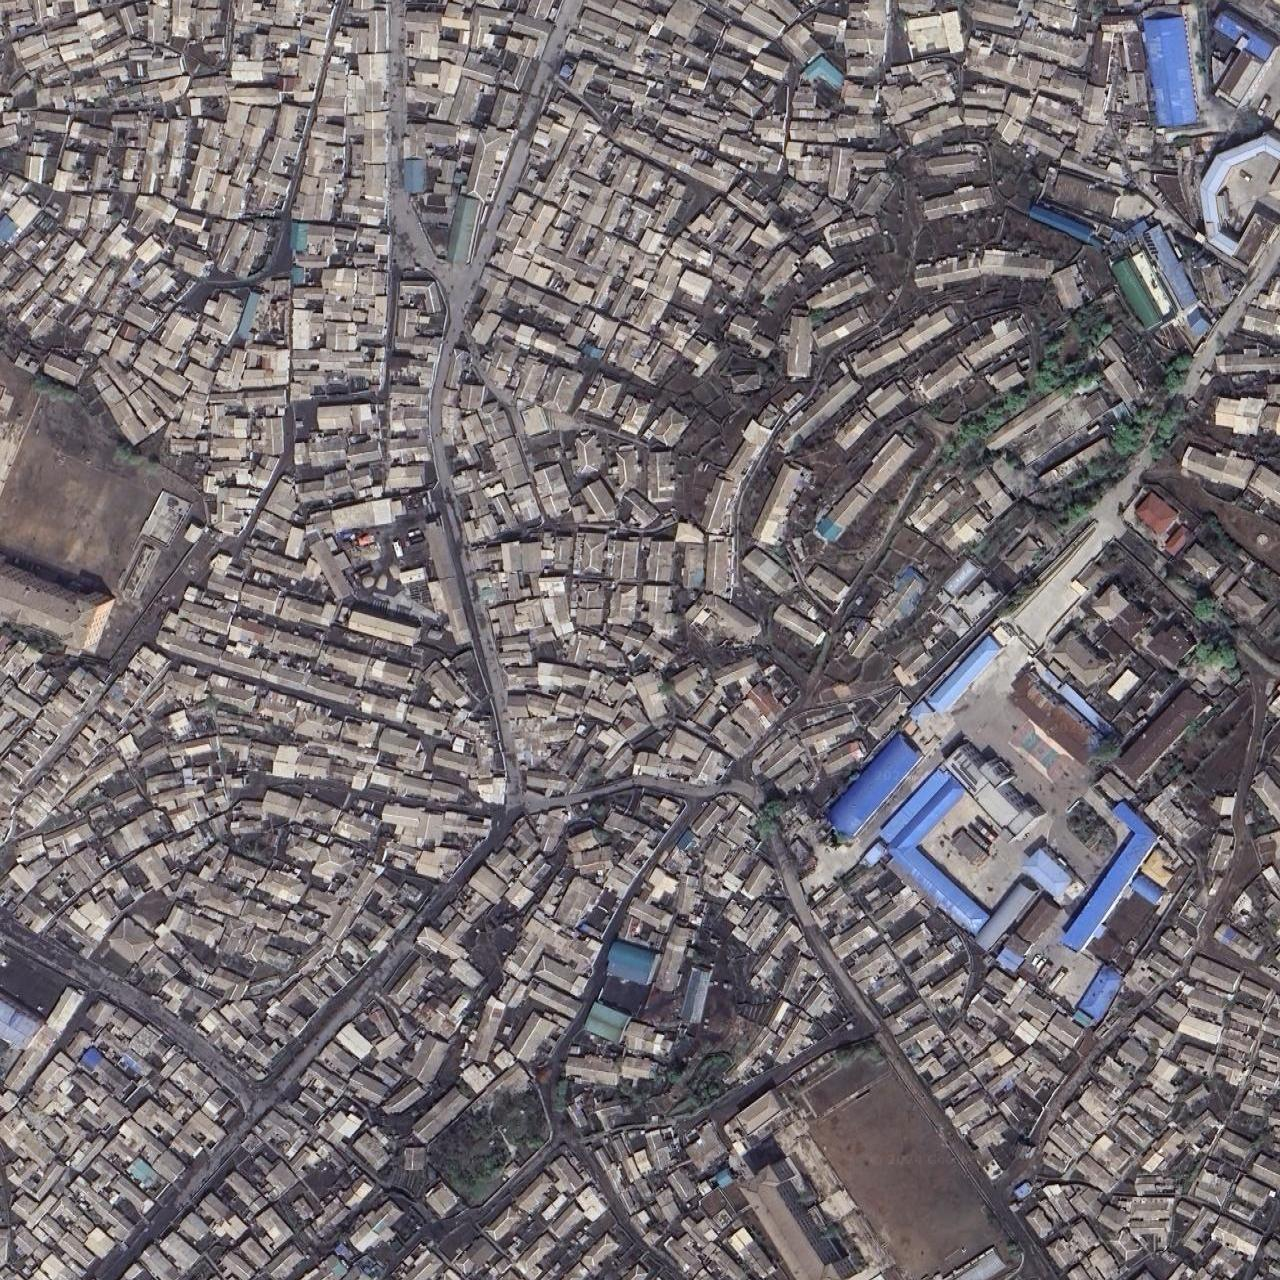greenery: (4, 360, 217, 672), (815, 1065, 999, 1275)
house: (430, 1, 1280, 812), (0, 564, 897, 1280), (787, 238, 1280, 1280), (1, 0, 572, 600)
